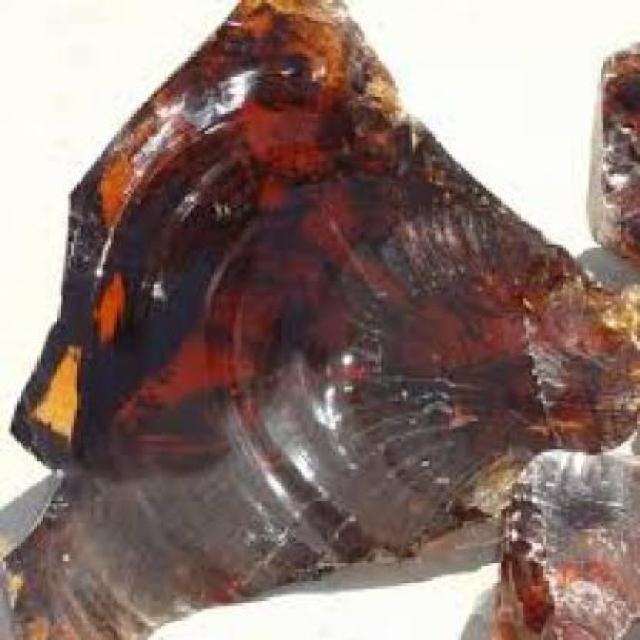GLASS: (0, 0, 637, 637), (454, 444, 638, 638), (574, 37, 638, 261)
